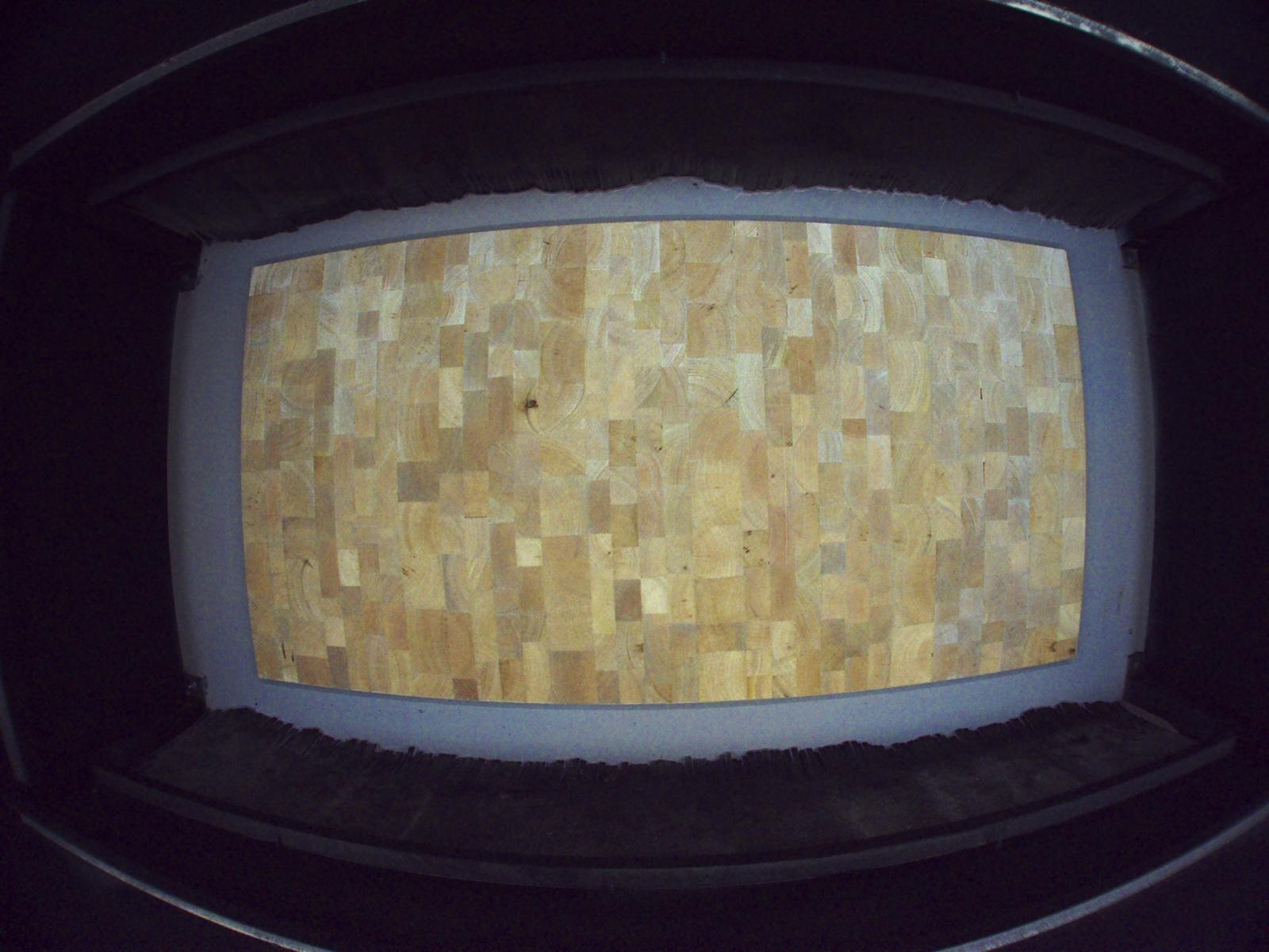sheck_ecuatoriano: (523, 383, 541, 435)
